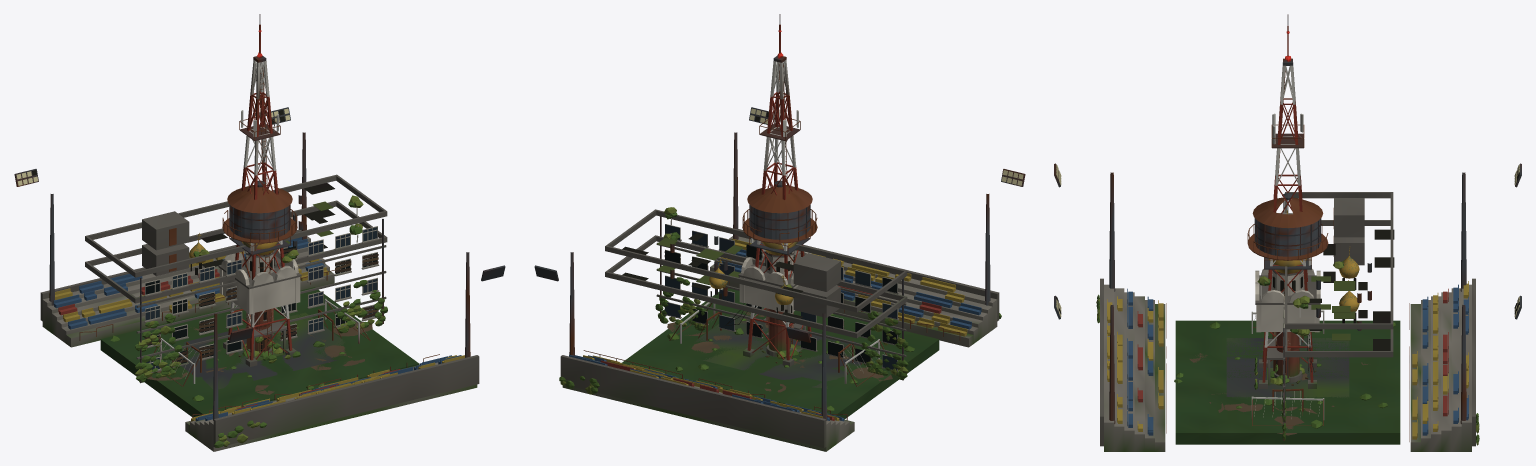
The model's file is landmarks.glb.
The picture shows the model from 3 angles, left to right: view 1: azimuth 30°, elevation 25°; view 2: azimuth 150°, elevation 25°; view 3: azimuth 270°, elevation 25°; orthographic projection. The views are drawn at different scales.
Parts seen in each view (by area): view 1: stadium|lod0|s, school_facade|lod0|s, hospital_facade|lod0|s, water_tower|lod0|s, church_top_gg|lod0|s, school_yard|lod0|s, tv_tower|lod0|s, school_facade|lod0|dt, hospital_facade|lod0|dt, tv_tower|lod0|dt, hospital_facade|lod0|f, stadium|lod0|dt (+3 smaller); view 2: stadium|lod0|s, school_facade|lod0|s, hospital_facade|lod0|s, water_tower|lod0|s, school_yard|lod0|s, tv_tower|lod0|s, church_top_gg|lod0|s, tv_tower|lod0|dt, stadium|lod0|dt, hospital_facade|lod0|dt, hospital_facade|lod0|f, school_facade|lod0|dt (+3 smaller); view 3: stadium|lod0|s, school_yard|lod0|s, water_tower|lod0|s, church_top_gg|lod0|s, hospital_facade|lod0|s, tv_tower|lod0|s, school_facade|lod0|s, hospital_facade|lod0|dt, tv_tower|lod0|dt, school_facade|lod0|dt, stadium|lod0|dt, water_tower|lod0|dt (+1 smaller).
Part boxes in pixels (x1,y1,x2,y2): stadium|lod0|s: (14, 107, 505, 451); school_facade|lod0|s: (85, 200, 387, 372); hospital_facade|lod0|s: (85, 174, 387, 327); water_tower|lod0|s: (222, 180, 297, 353); church_top_gg|lod0|s: (189, 233, 301, 314); school_yard|lod0|s: (158, 309, 344, 389); tv_tower|lod0|s: (223, 14, 296, 366); school_facade|lod0|dt: (140, 209, 383, 382); hospital_facade|lod0|dt: (140, 183, 383, 382); tv_tower|lod0|dt: (229, 61, 290, 359); hospital_facade|lod0|f: (135, 195, 384, 382); stadium|lod0|dt: (79, 270, 439, 417); stadium|lod0|s: (534, 107, 1025, 451); school_facade|lod0|s: (605, 233, 907, 371); hospital_facade|lod0|s: (605, 209, 907, 327); water_tower|lod0|s: (742, 180, 817, 356); school_yard|lod0|s: (692, 312, 881, 388); tv_tower|lod0|s: (743, 14, 816, 366); church_top_gg|lod0|s: (709, 241, 811, 313); tv_tower|lod0|dt: (724, 61, 810, 359); stadium|lod0|dt: (583, 281, 960, 420); hospital_facade|lod0|dt: (622, 216, 903, 380); hospital_facade|lod0|f: (659, 207, 908, 379); school_facade|lod0|dt: (622, 246, 903, 380); stadium|lod0|s: (1054, 163, 1521, 451); school_yard|lod0|s: (1226, 332, 1349, 411); water_tower|lod0|s: (1247, 193, 1328, 382); church_top_gg|lod0|s: (1255, 210, 1359, 332); hospital_facade|lod0|s: (1283, 192, 1393, 360); tv_tower|lod0|s: (1259, 14, 1316, 388); school_facade|lod0|s: (1267, 220, 1393, 424); hospital_facade|lod0|dt: (1283, 201, 1394, 440); tv_tower|lod0|dt: (1263, 66, 1314, 372); school_facade|lod0|dt: (1283, 236, 1394, 440); stadium|lod0|dt: (1166, 303, 1409, 441); water_tower|lod0|dt: (1247, 200, 1328, 385).
Size of what is drawn, in the model's own units: 33.6 by 41.51 by 45.77.
